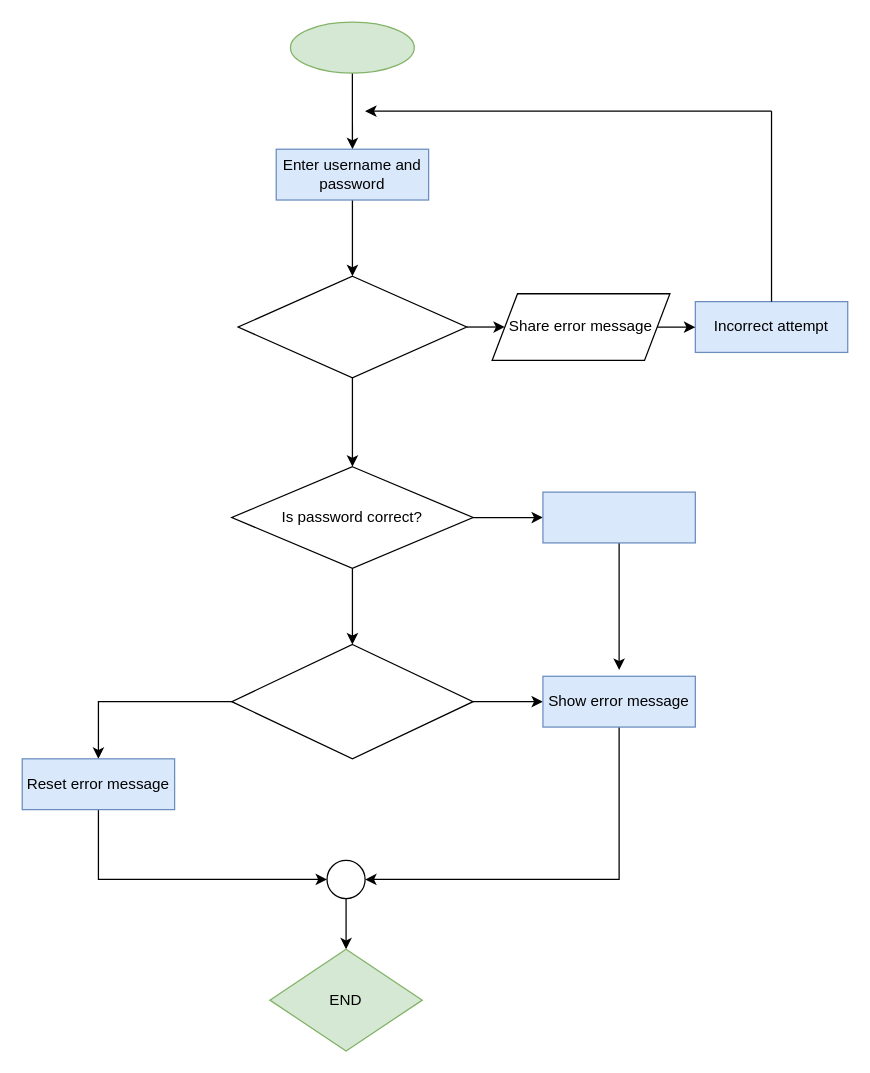
Some shapes in this 870 by 1073 pixel diagram are drawn without their labels. The box of each missing label's shape, as (x1, y1, x2, y2) in pixels:
Have 3 attempts been exceeded?: (231, 643, 473, 759)
Is username valid?: (237, 275, 467, 378)
Lock account: (542, 491, 695, 543)
Start: (289, 21, 414, 73)
